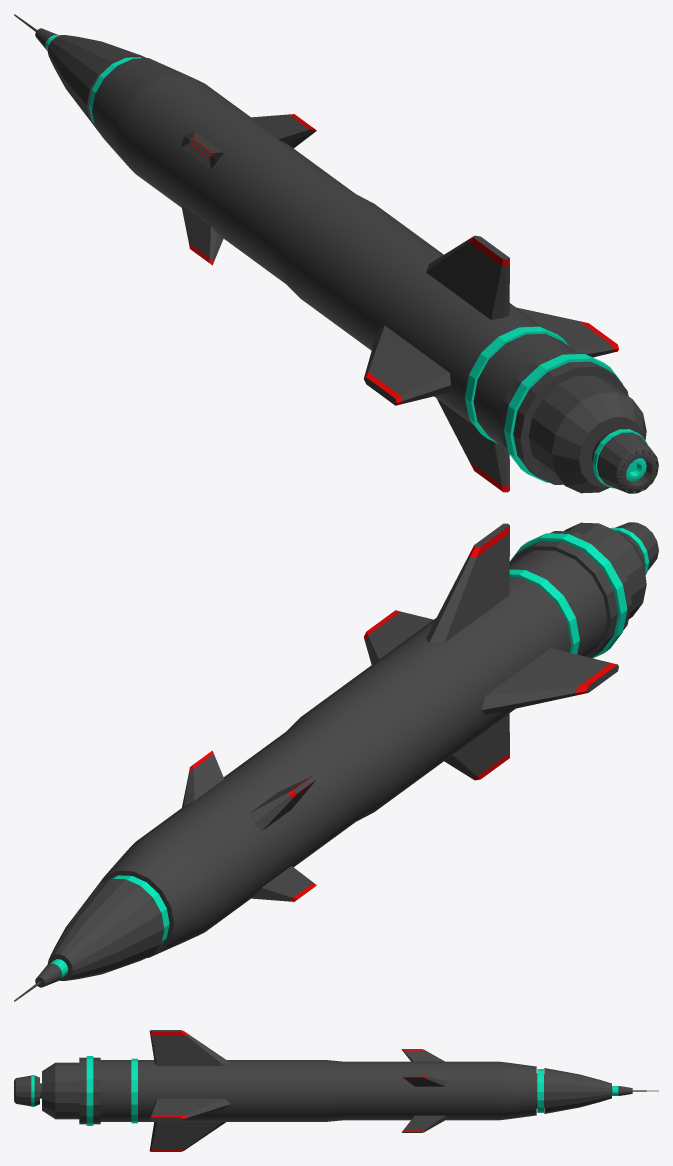
The model's file is Missile.fbx.
The picture shows the model from 3 angles, top to bottom: view 1: azimuth 30°, elevation 25°; view 2: azimuth 150°, elevation 25°; view 3: azimuth 270°, elevation 25°; orthographic projection. The views are drawn at different scales.
Parts seen in each view (by area): view 1: polySurface14; view 2: polySurface14; view 3: polySurface14.
Boxes of the visible parts, bbox=[...] form: polySurface14: bbox=[14, 14, 658, 493]; polySurface14: bbox=[14, 522, 658, 1001]; polySurface14: bbox=[14, 1030, 658, 1151].
Size of the model in its own units: 26.57 by 26.57 by 129.
